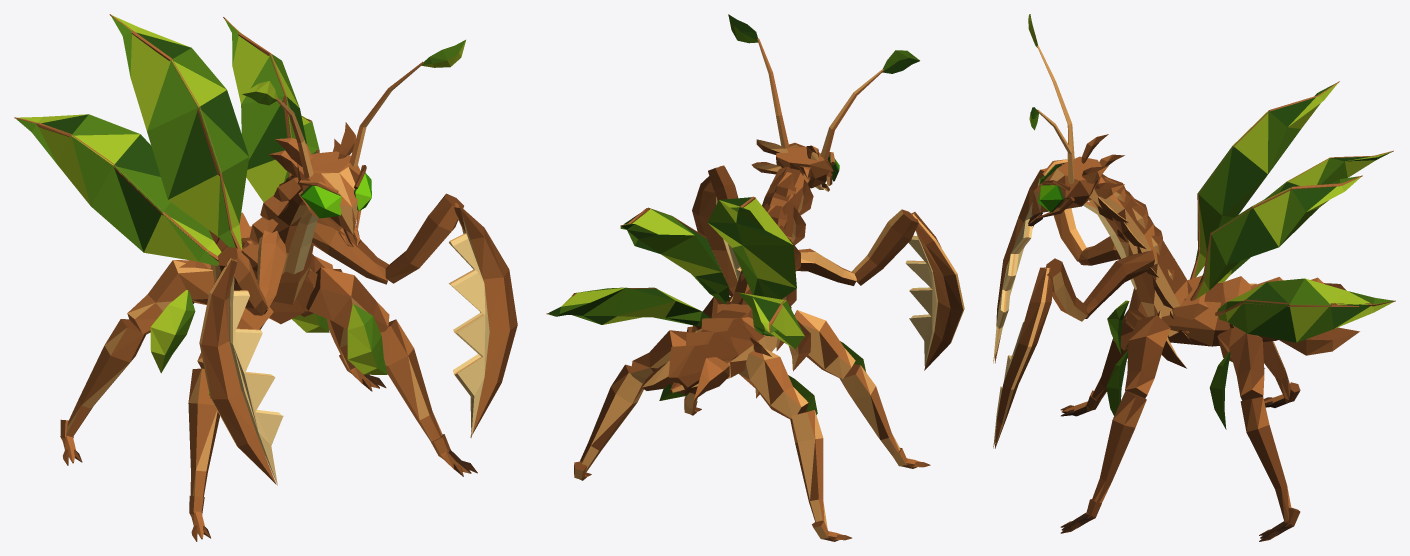
File: mantis-study-complete-integrated-next.glb
The picture shows the model from 3 angles, left to right: view 1: azimuth 30°, elevation 25°; view 2: azimuth 150°, elevation 25°; view 3: azimuth 270°, elevation 25°; orthographic projection. The views are drawn at different scales.
Visible parts, largest first — view 1: Leaf wing wing-1_0, Leaf wing wing-1_1, Leaf wing wing1_0, Swept bevelled wood sickle -1, Swept bevelled wood sickle 1, Bevelled continuous ivory teeth -1, Bevelled continuous ivory teeth 1, Walking tibia leg1_0, Walking tibia leg-1_1, Walking femur leg1_0, Walking femur leg-1_1, Walking tibia leg-1_0 (+16 smaller); view 2: Leaf wing wing-1_0, Leaf wing wing1_0, Leaf wing wing1_1, Swept bevelled wood sickle -1, Walking femur leg-1_1, Walking tibia leg-1_1, Walking tibia leg1_1, Raised raptorial forearm -1, Walking tibia leg-1_0, Walking femur leg-1_0, Leaf wing wing-1_1, Bevelled continuous ivory teeth -1 (+16 smaller); view 3: Leaf wing wing-1_0, Leaf wing wing1_1, Leaf wing wing1_0, Rising prothorax curved cervical arch, Swept bevelled wood sickle 1, Walking femur leg1_0, Walking tibia leg1_1, Walking femur leg1_1, Walking tibia leg1_0, Abdomen core, Leaf wing wing-1_1, Raptorial upper arm 1 (+18 smaller).
Part boxes in pixels (box(x1,y1,x2,y2)): Leaf wing wing-1_0: box(111, 15, 248, 249); Leaf wing wing-1_1: box(15, 114, 221, 266); Leaf wing wing1_0: box(224, 19, 306, 202); Swept bevelled wood sickle -1: box(199, 258, 276, 484); Swept bevelled wood sickle 1: box(454, 203, 517, 437); Bevelled continuous ivory teeth -1: box(228, 260, 283, 485); Bevelled continuous ivory teeth 1: box(449, 204, 489, 438); Walking tibia leg1_0: box(380, 319, 442, 441); Walking tibia leg-1_1: box(66, 319, 145, 437); Walking femur leg1_0: box(306, 267, 389, 332); Walking femur leg-1_1: box(127, 260, 214, 334); Walking tibia leg-1_0: box(188, 368, 219, 496); Leaf wing wing-1_0: box(707, 197, 796, 299); Leaf wing wing1_0: box(620, 208, 729, 304); Leaf wing wing1_1: box(548, 287, 710, 325); Swept bevelled wood sickle -1: box(910, 212, 964, 370); Walking femur leg-1_1: box(739, 348, 808, 419); Walking tibia leg-1_1: box(790, 410, 827, 528); Walking tibia leg1_1: box(580, 364, 643, 472); Raised raptorial forearm -1: box(851, 209, 918, 285); Walking tibia leg-1_0: box(839, 364, 900, 454); Walking femur leg-1_0: box(784, 310, 855, 379); Leaf wing wing-1_1: box(738, 292, 804, 349); Bevelled continuous ivory teeth -1: box(905, 213, 937, 366); Leaf wing wing-1_0: box(1194, 83, 1337, 277); Leaf wing wing1_1: box(1217, 278, 1394, 342); Leaf wing wing1_0: box(1195, 176, 1360, 299); Rising prothorax curved cervical arch: box(1087, 174, 1192, 336); Swept bevelled wood sickle 1: box(995, 267, 1052, 448); Walking femur leg1_0: box(1125, 315, 1170, 398); Walking tibia leg1_1: box(1240, 396, 1291, 521); Walking femur leg1_1: box(1217, 326, 1264, 400); Walking tibia leg1_0: box(1092, 391, 1146, 503); Abdomen core: box(1155, 283, 1278, 346); Leaf wing wing-1_1: box(1219, 151, 1391, 282); Raptorial upper arm 1: box(1083, 250, 1154, 318).
Bounding box in the file's own units: 2.73 × 3.76 × 3.31.
